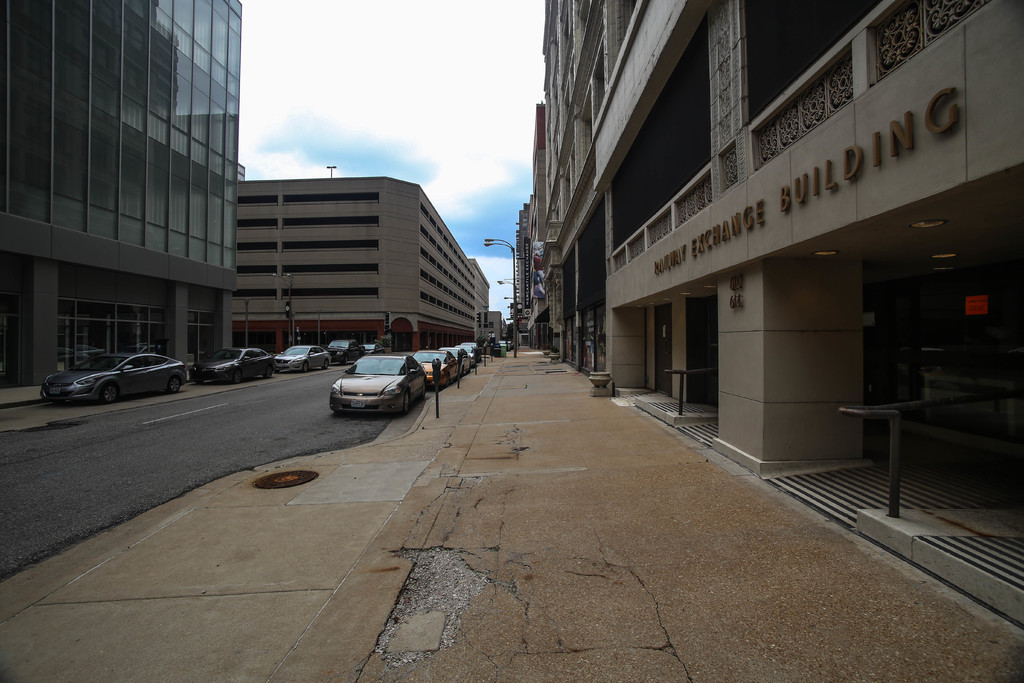car: (32, 340, 194, 420), (320, 347, 431, 424), (191, 340, 281, 393), (265, 330, 334, 382), (410, 341, 462, 390), (322, 331, 365, 367)
